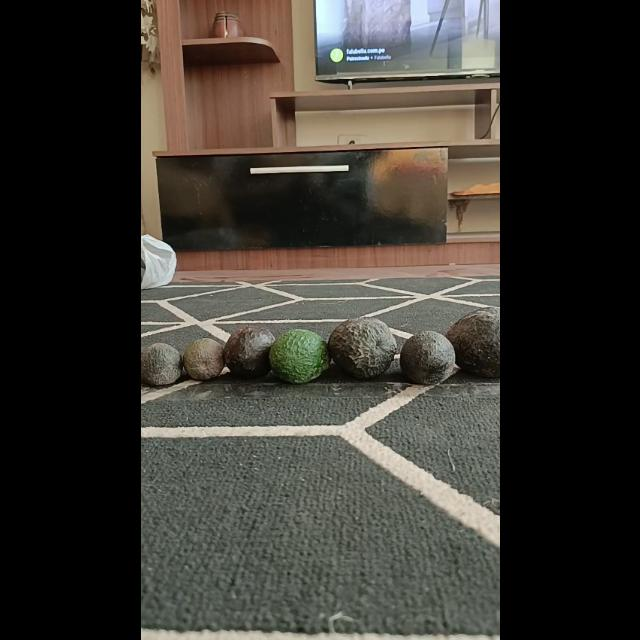Primera: (327, 316, 397, 378), (444, 307, 498, 377)
Segunda: (268, 329, 329, 383), (399, 330, 457, 384), (222, 324, 276, 378)
Tercera: (140, 343, 182, 387), (182, 336, 224, 379)
